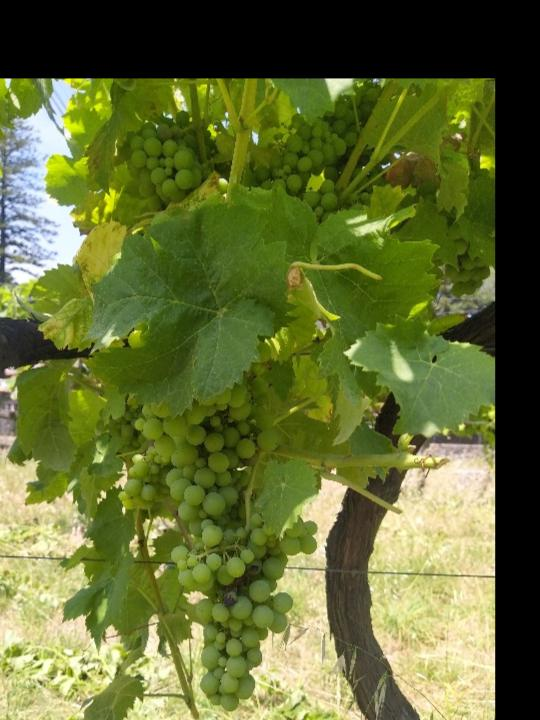grape: (168, 515, 319, 713), (115, 381, 282, 530), (254, 80, 382, 220), (114, 109, 217, 204)
